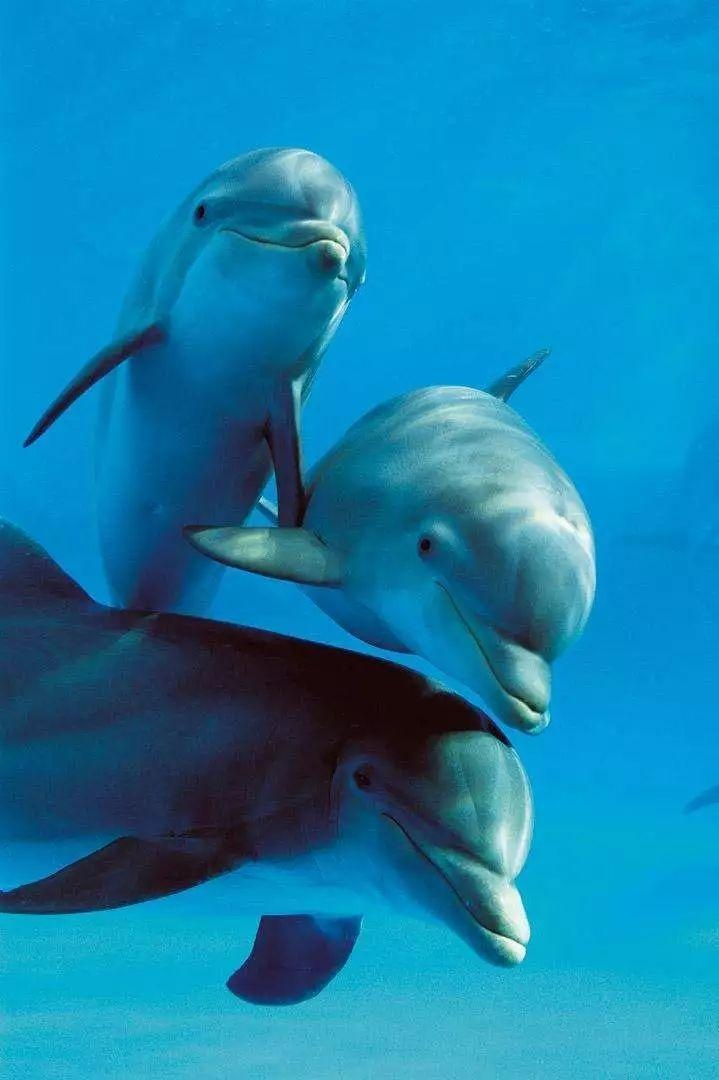fish: (1, 535, 535, 1009), (179, 328, 598, 736), (24, 151, 372, 588)
